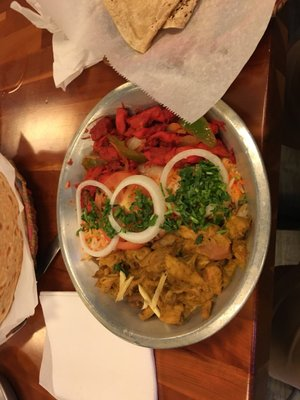curry: (167, 162, 232, 230)
soup: (7, 0, 282, 127)
sushi: (56, 63, 269, 351)
